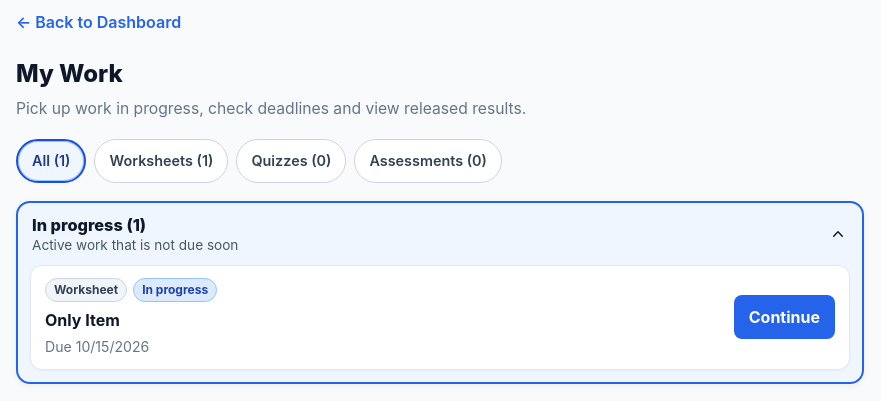
accordion keyboard semantics via native button
Step 1. Click the button "In progress (1) Active work that is not due soon" → (77, 225), box [18,203,862,265]
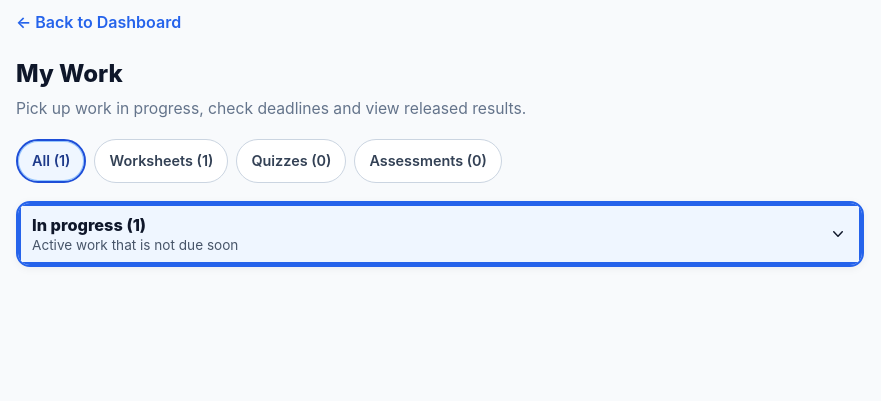
Expected: the button "In progress (1) Active work that is not due soon" is collapsed
Expected: the heading "Only Item" is gone
Step 2. Click the button "In progress (1) Active work that is not due soon" → (77, 225), box [18,203,862,265]
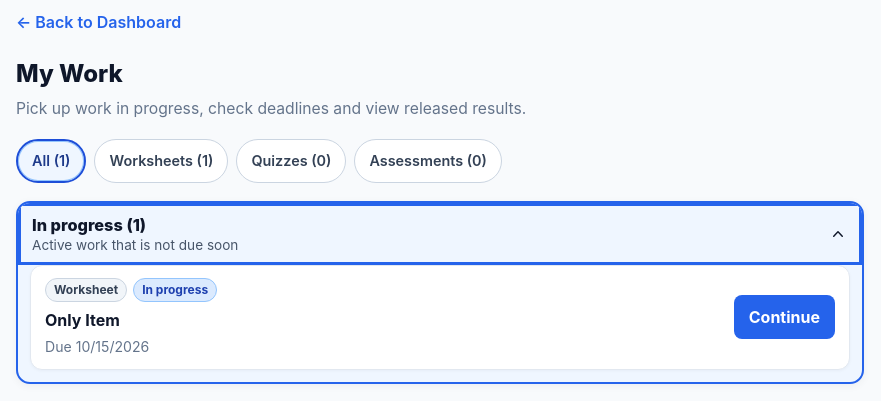
Expected: the button "In progress (1) Active work that is not due soon" is expanded, [18,203,862,265]
Expected: the heading "Only Item" is shown, [45,310,120,330]
